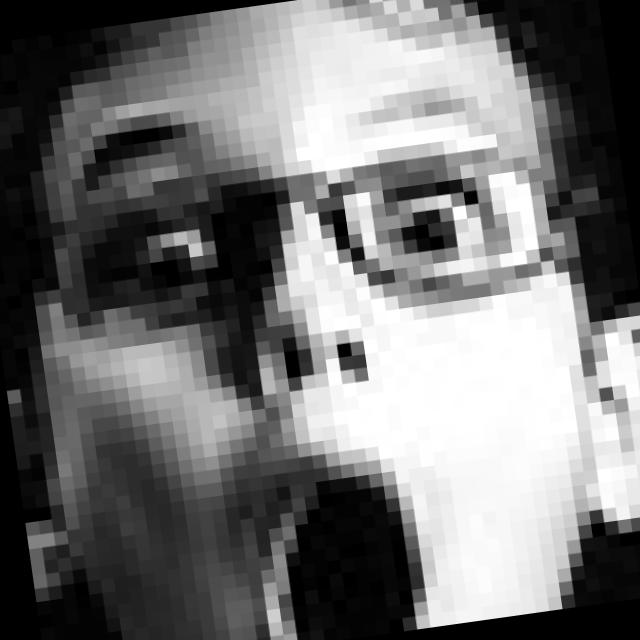surprise: (48, 55, 577, 640)
